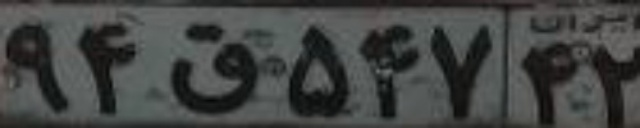2: (588, 45, 638, 126)
4: (357, 24, 421, 119), (77, 23, 138, 115), (520, 43, 581, 124)
5: (280, 24, 351, 119)
7: (428, 23, 496, 121)
9: (2, 23, 70, 114)
ghaf: (165, 22, 259, 114)
